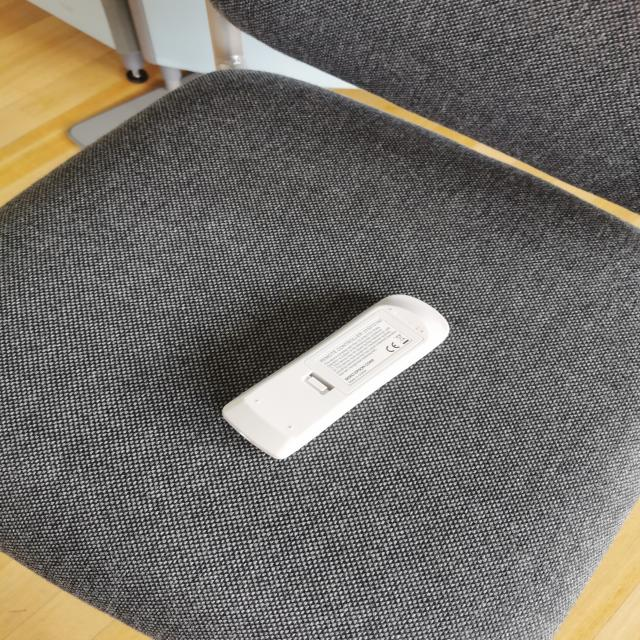remote: (219, 291, 453, 461)
